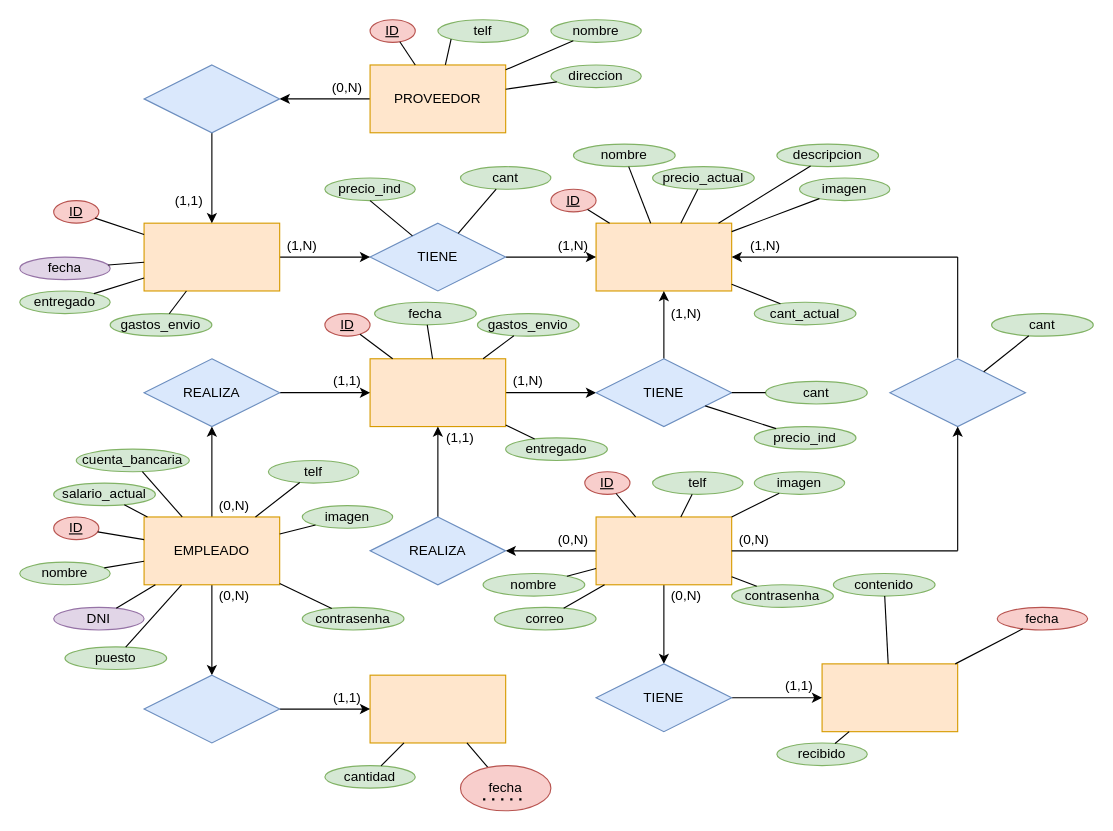
This 1113x831 diagram has some shape labels left out. Each missing label, with the box of its shape:
CARRITO: (889, 358, 1025, 427)
CLIENTE: (595, 516, 732, 585)
COBRA: (143, 674, 280, 743)
COMPRA (REGISTRO): (143, 222, 280, 291)
MENSAJE_CLIENTE: (821, 663, 958, 732)
PRODUCTO: (595, 222, 732, 291)
SUELDO: (369, 674, 506, 743)
SUPLE: (143, 64, 280, 133)
VENTA (TICKET): (369, 358, 506, 427)
